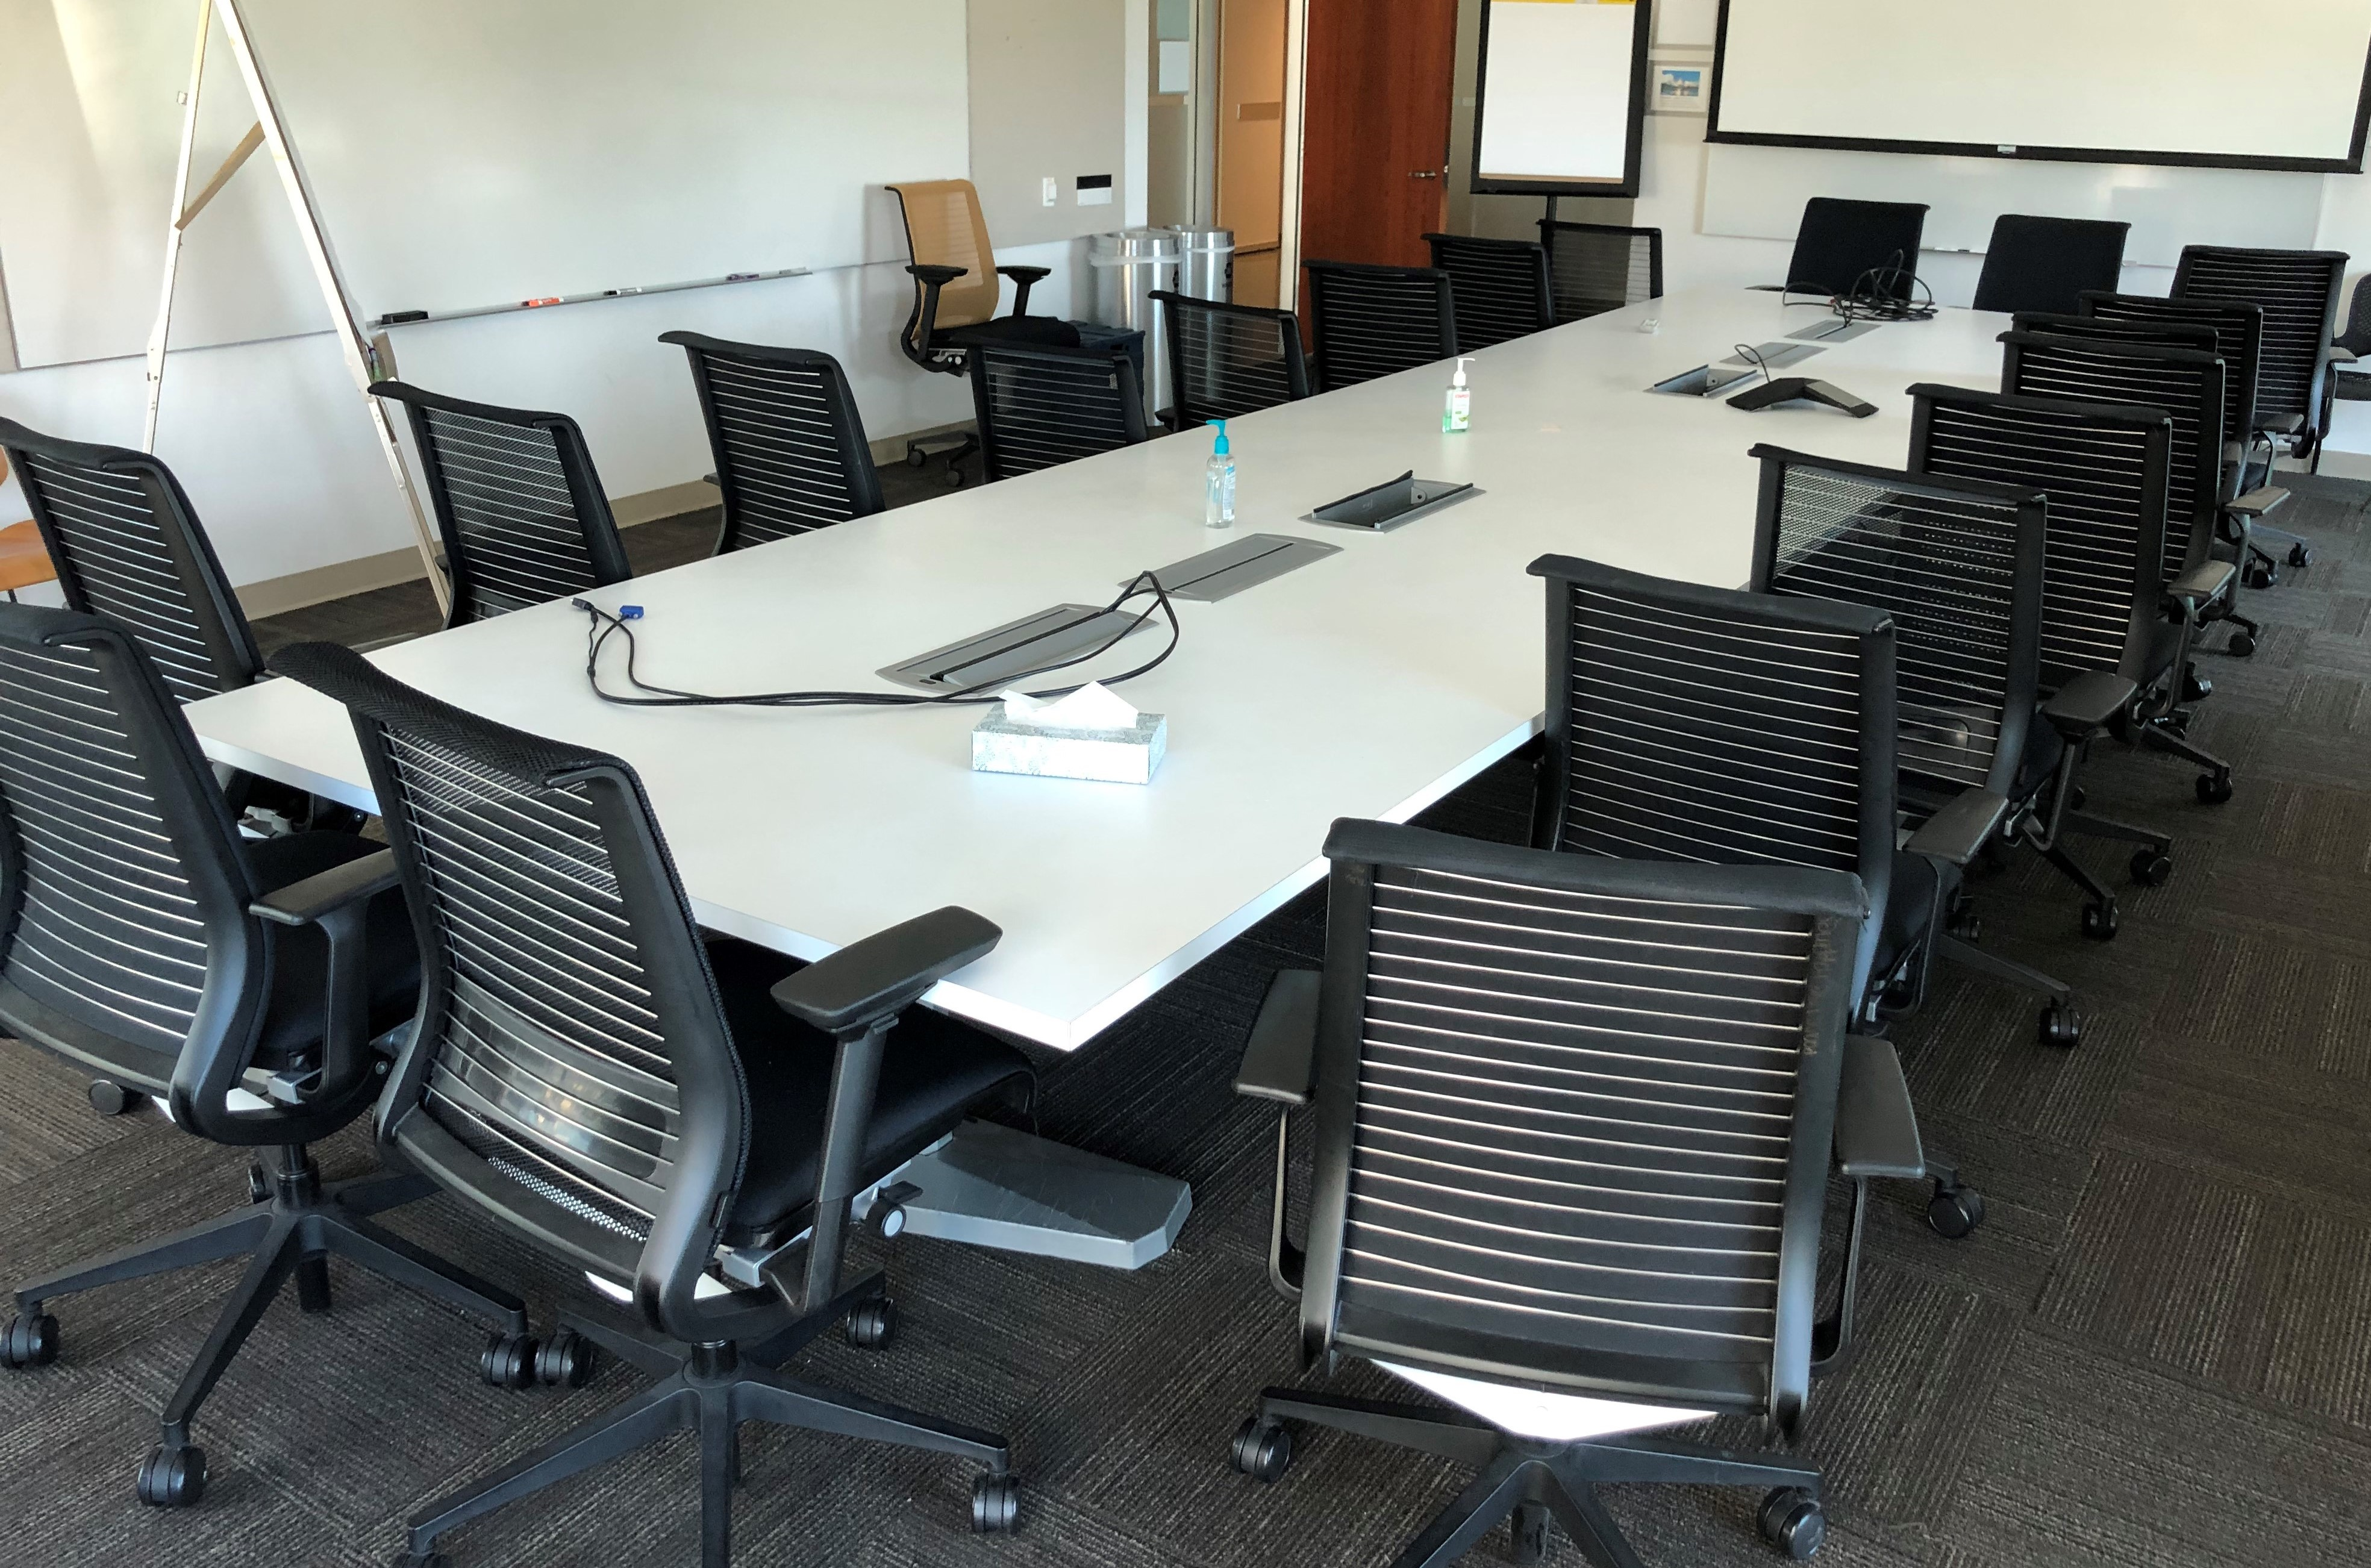conference_table: (172, 280, 2133, 1273)
